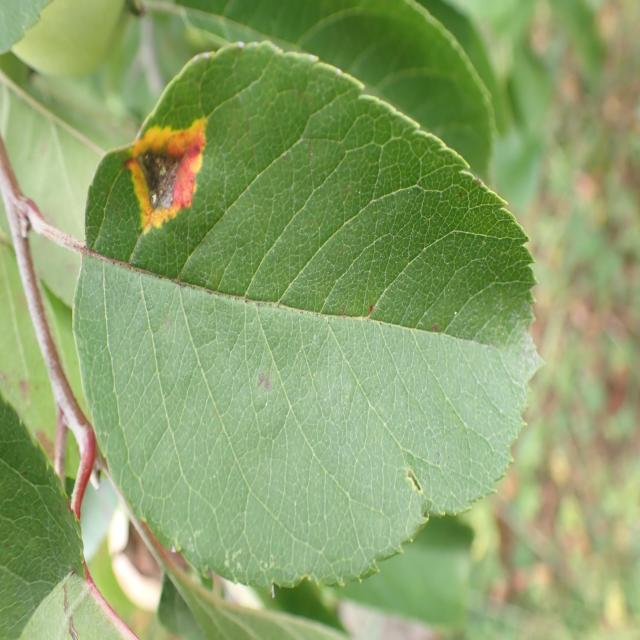rust: (72, 39, 546, 590)
